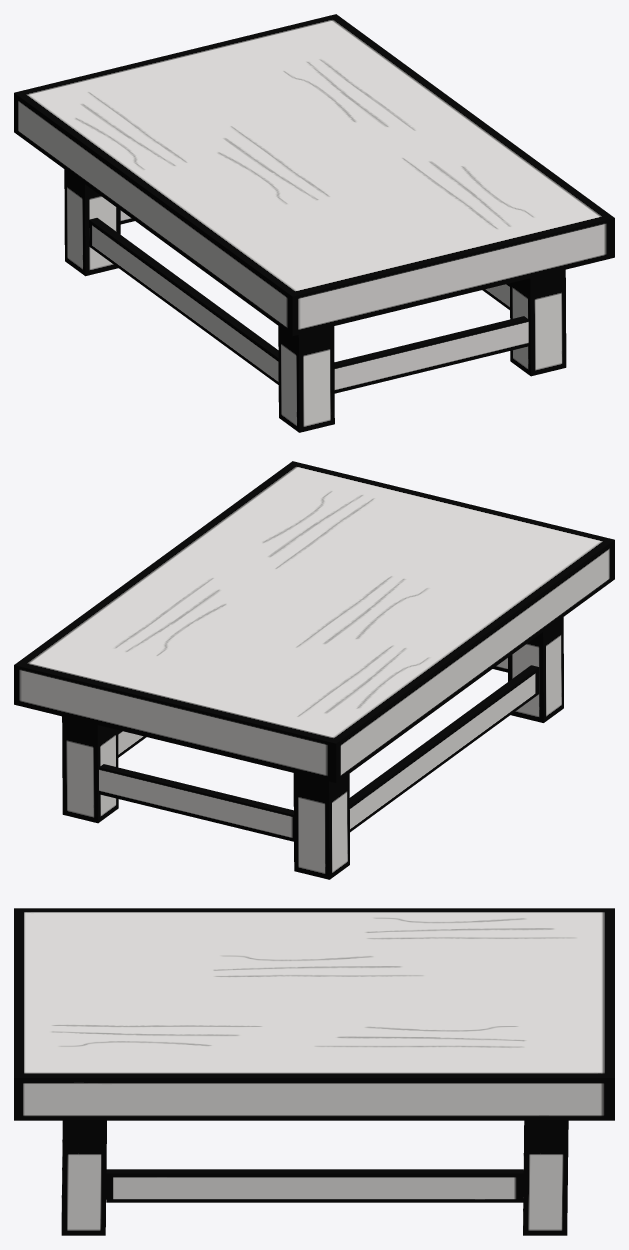
The model's file is Table.fbx.
3 renders of one model, top to bottom at view 1: azimuth 30°, elevation 25°; view 2: azimuth 150°, elevation 25°; view 3: azimuth 270°, elevation 25°, orthographic. The views are drawn at different scales.
Visible parts, largest first — view 1: Table; view 2: Table; view 3: Table.
Boxes of the visible parts, <box> form: Table: <box>14,14,614,432</box>; Table: <box>14,461,614,879</box>; Table: <box>14,908,614,1235</box>.
Size of the model in its own units: 209 by 98.78 by 313.
